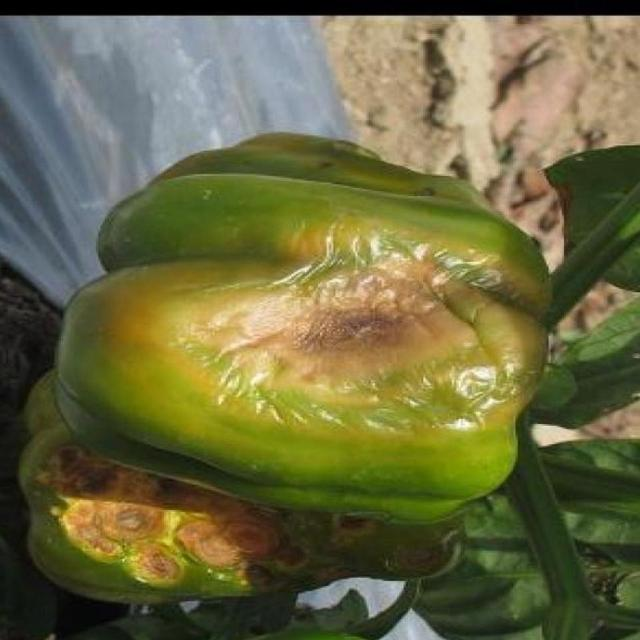Sunscald Fruit: (91, 140, 372, 304)
